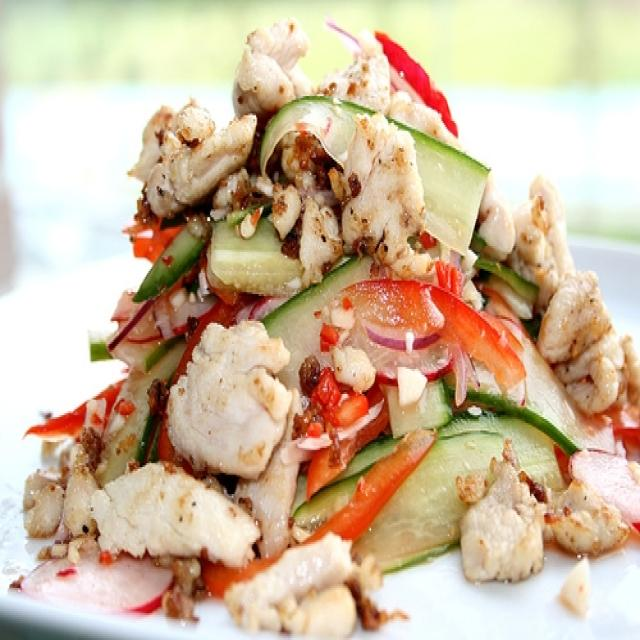鸡肉料理 含炸鸡: (27, 25, 621, 623)
